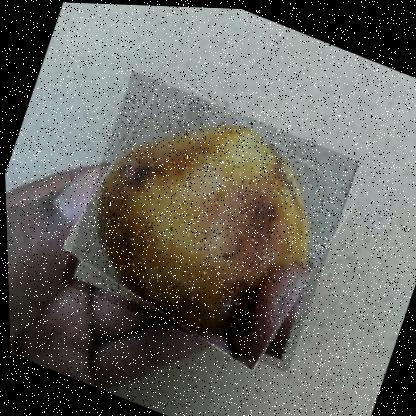guava_rotten: (53, 66, 364, 372)
